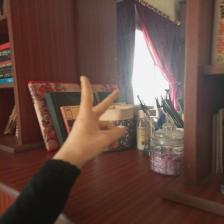two: (52, 71, 136, 172)
